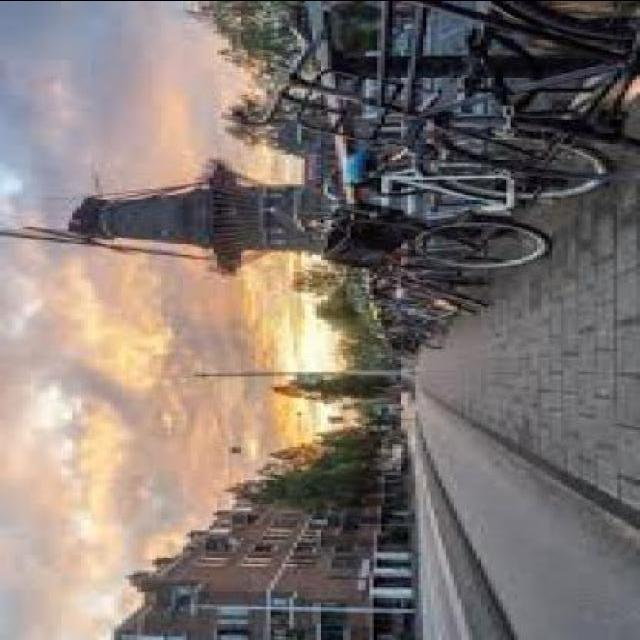bicycle: (310, 128, 604, 280)
